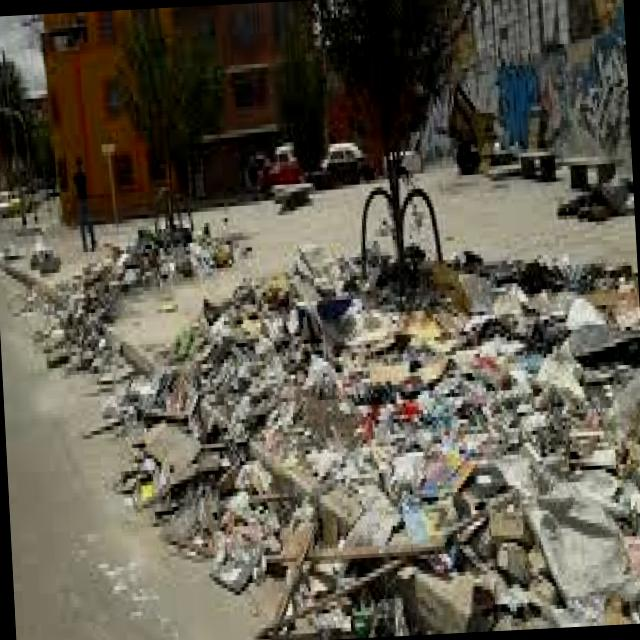garbage: (129, 233, 640, 640)
